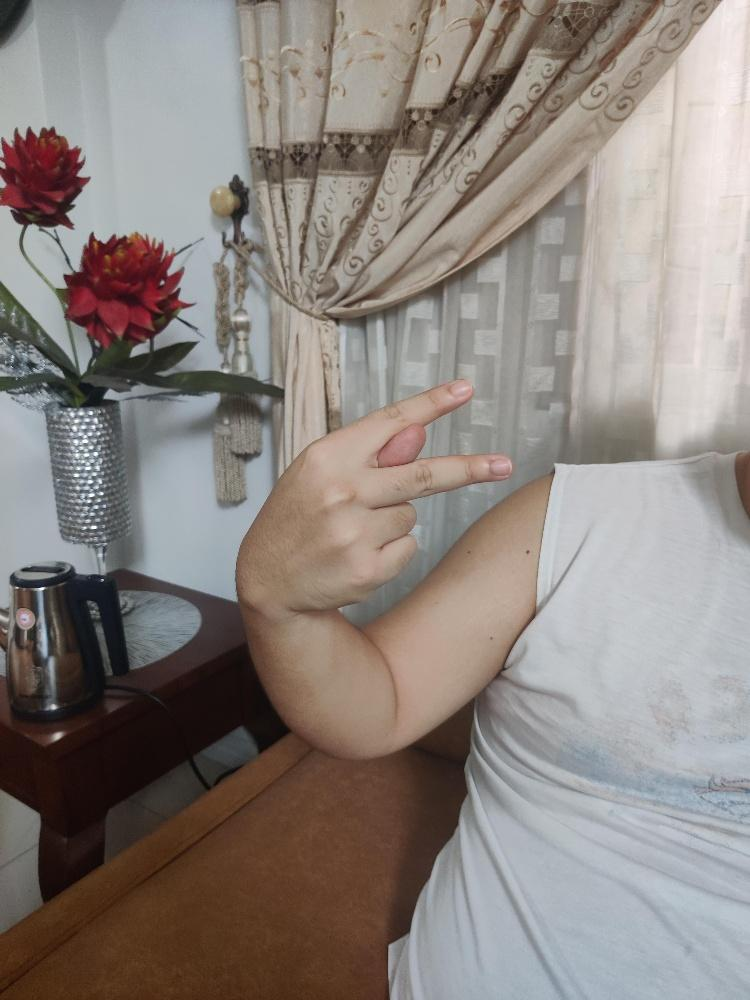k: (233, 375, 514, 613)
